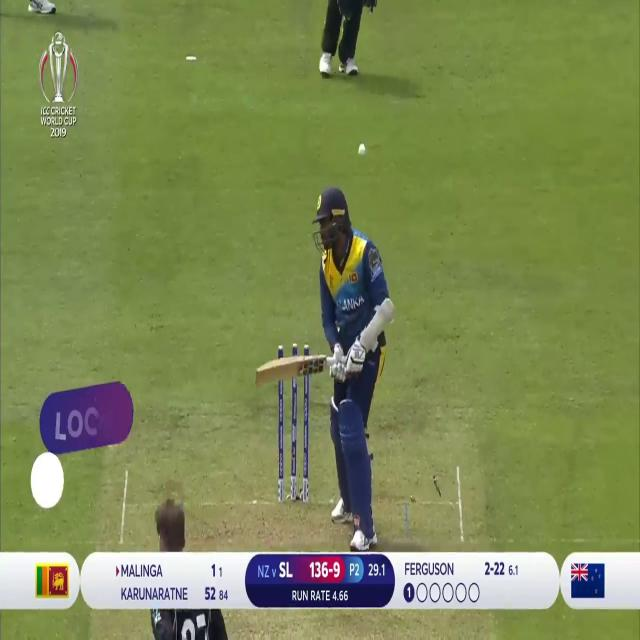ball: (355, 134, 371, 164)
